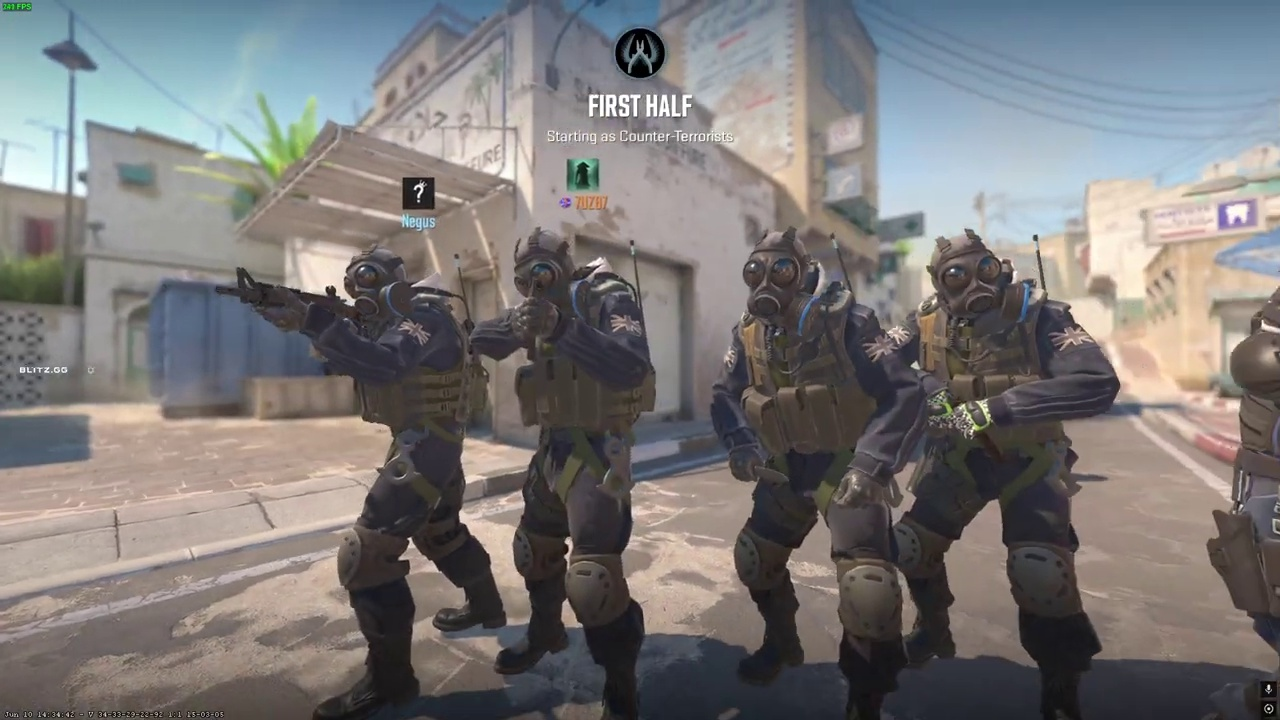CT: (876, 228, 1117, 720), (703, 225, 919, 720), (288, 243, 502, 719), (476, 226, 658, 720)
